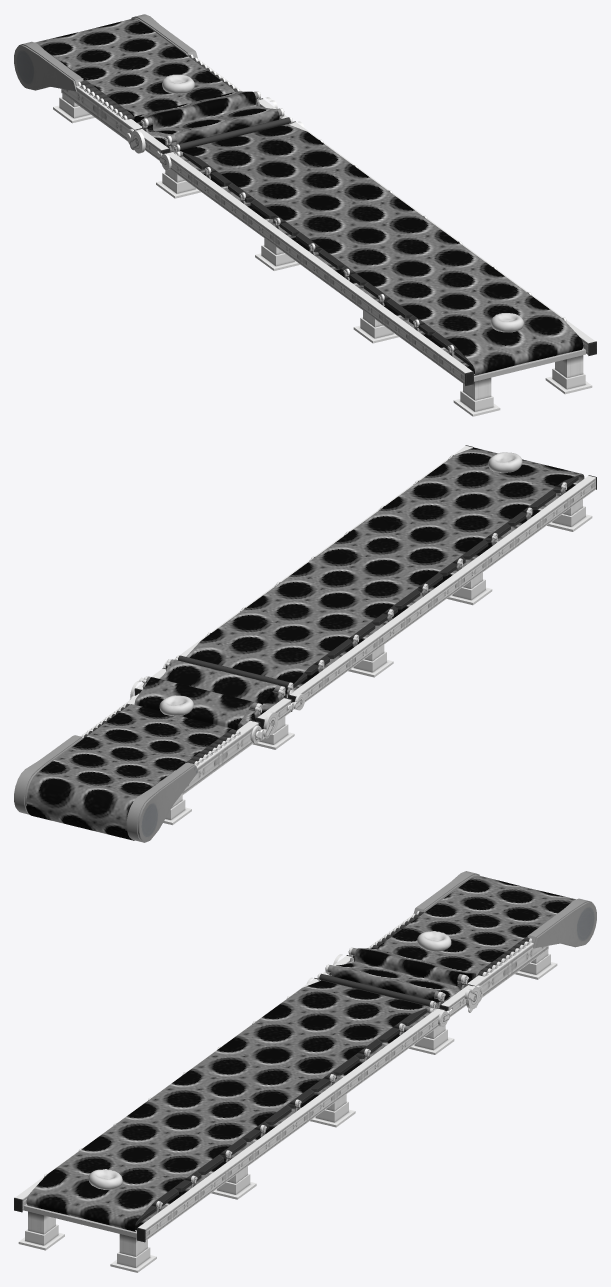
The model's file is together.gltf.
3 renders of one model, top to bottom at view 1: azimuth 30°, elevation 25°; view 2: azimuth 150°, elevation 25°; view 3: azimuth 330°, elevation 25°, orthographic.
Parts seen in each view (by area): view 1: Conveyor, Legs, -Conveyor, InnerRectangles, Piece02, Rollers, bl19, Piece01, OuterBar08, OuterBar07, OuterBar06, OuterBar05 (+8 smaller); view 2: Conveyor, Legs, -Conveyor, Piece02, InnerRectangles, Piece01, Rollers, Object420, Object419, OuterBar07, OuterBar09, OuterBar08 (+7 smaller); view 3: Conveyor, Legs, -Conveyor, InnerRectangles, Piece01, Rollers, bl19, Piece02, Object419, Object420, OuterBar17, OuterBar14 (+8 smaller).
Part boxes in pixels (box(x1,y1,x2,y2)): Conveyor: box(35, 18, 583, 375); Legs: box(53, 94, 592, 416); -Conveyor: box(61, 58, 304, 170); InnerRectangles: box(183, 152, 473, 368); Piece02: box(14, 41, 83, 91); Rollers: box(173, 117, 292, 151); bl19: box(474, 348, 585, 381); Piece01: box(131, 14, 197, 58); OuterBar08: box(220, 192, 254, 225); OuterBar07: box(247, 212, 281, 245); OuterBar06: box(274, 232, 308, 265); OuterBar05: box(302, 252, 336, 285); Conveyor: box(26, 447, 584, 840); Legs: box(154, 499, 592, 825); -Conveyor: box(81, 659, 304, 795); Piece02: box(126, 762, 198, 842); InnerRectangles: box(293, 475, 578, 688); Piece01: box(14, 735, 83, 814); Rollers: box(174, 655, 293, 694); Object420: box(159, 695, 193, 715); Object419: box(488, 452, 522, 472); OuterBar07: box(371, 615, 405, 648); OuterBar09: box(317, 655, 350, 688); OuterBar08: box(344, 635, 378, 668); Conveyor: box(26, 875, 575, 1231); Legs: box(18, 950, 557, 1272); -Conveyor: box(306, 913, 548, 1027); InnerRectangles: box(135, 1008, 427, 1224); Piece01: box(527, 898, 596, 948); Rollers: box(317, 973, 436, 1008); bl19: box(23, 1204, 136, 1237); Piece02: box(413, 871, 479, 914); Object419: box(88, 1169, 122, 1189); Object420: box(417, 931, 451, 951); OuterBar17: box(247, 1128, 281, 1161); OuterBar14: box(328, 1068, 362, 1101).
Bounding box in the file's own units: 8.02 × 3.73 × 46.9.
